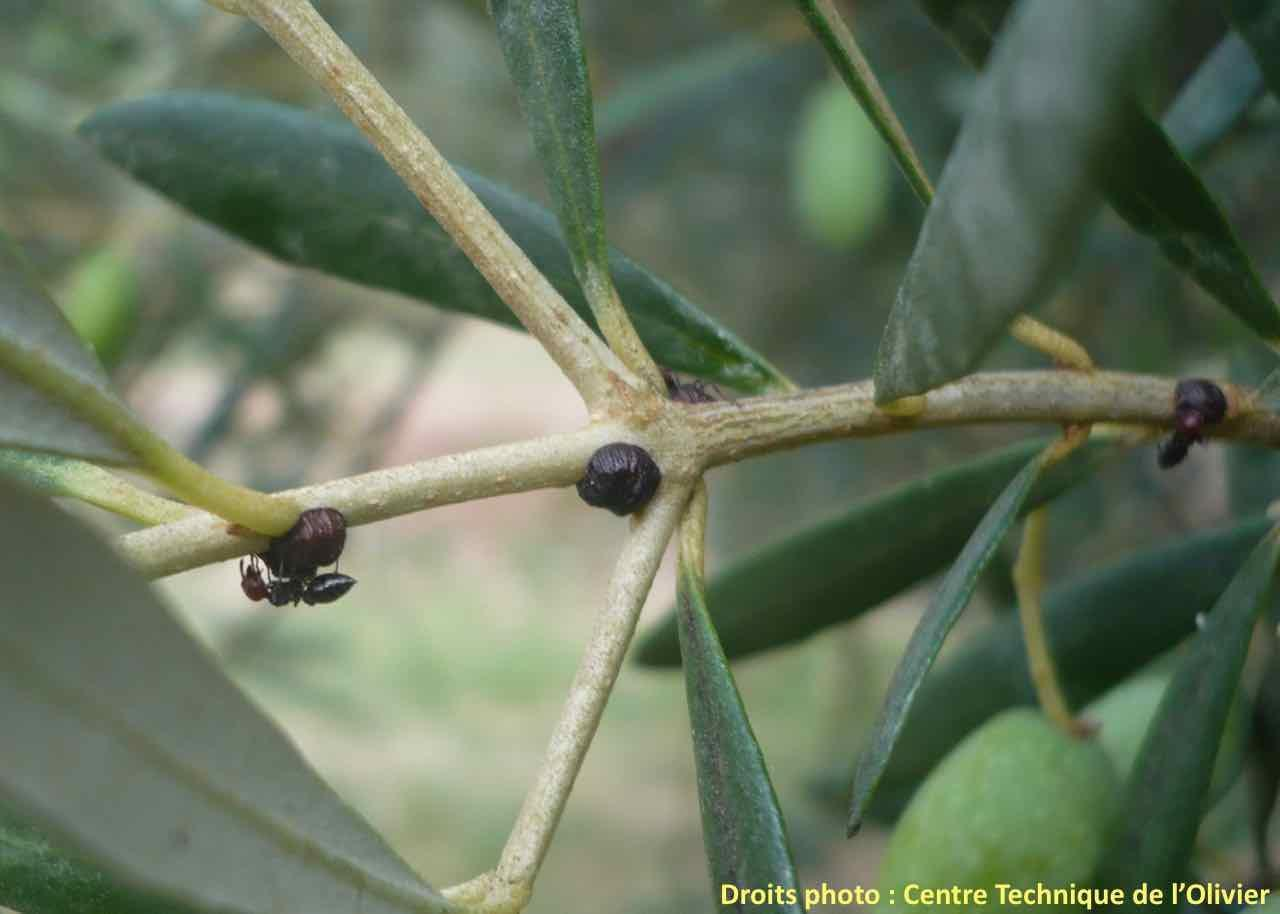BlackScale: (226, 507, 366, 616), (565, 440, 676, 526), (1156, 366, 1244, 466)
